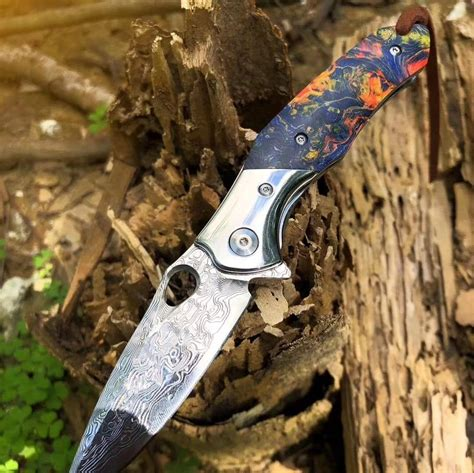knife: (66, 22, 433, 473)
